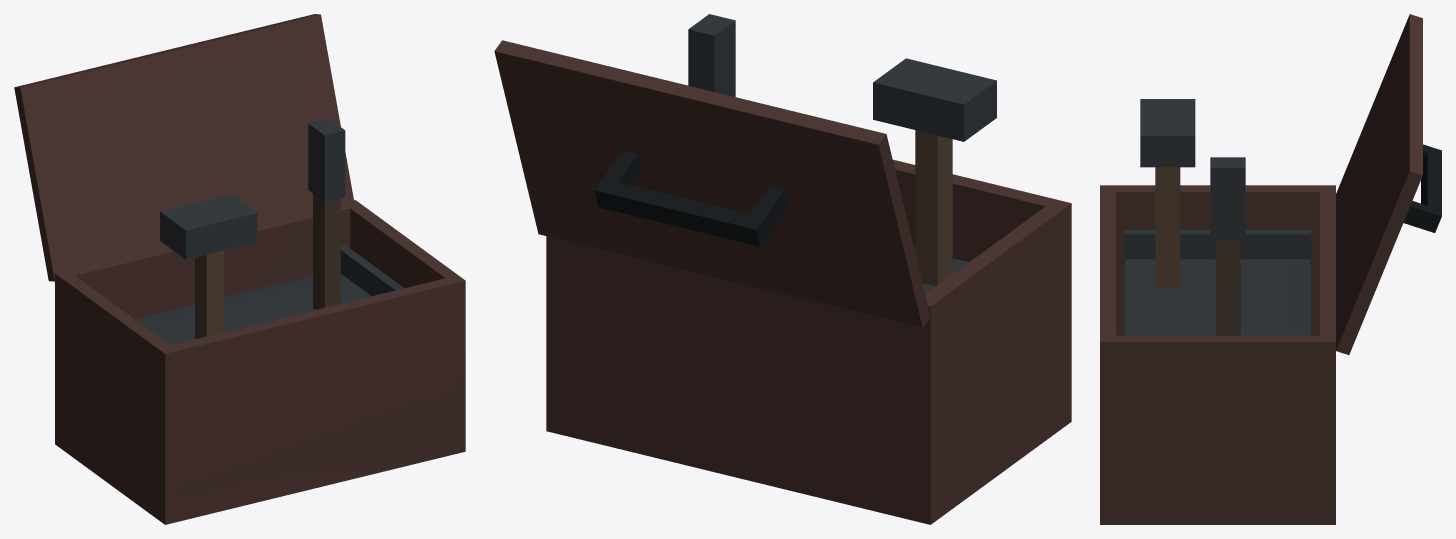
File: toolbox.glb
3 renders of one model, left to right at view 1: azimuth 30°, elevation 25°; view 2: azimuth 150°, elevation 25°; view 3: azimuth 270°, elevation 25°, orthographic. The views are drawn at different scales.
Parts seen in each view (by area): view 1: toolbox; view 2: toolbox; view 3: toolbox.
Boxes of the visible parts, left/top/right/bottom form: toolbox: left=14, top=14, right=465, bottom=524; toolbox: left=494, top=14, right=1071, bottom=524; toolbox: left=1100, top=14, right=1441, bottom=524.
Bounding box in the file's own units: 0.38 × 0.4 × 0.35.
